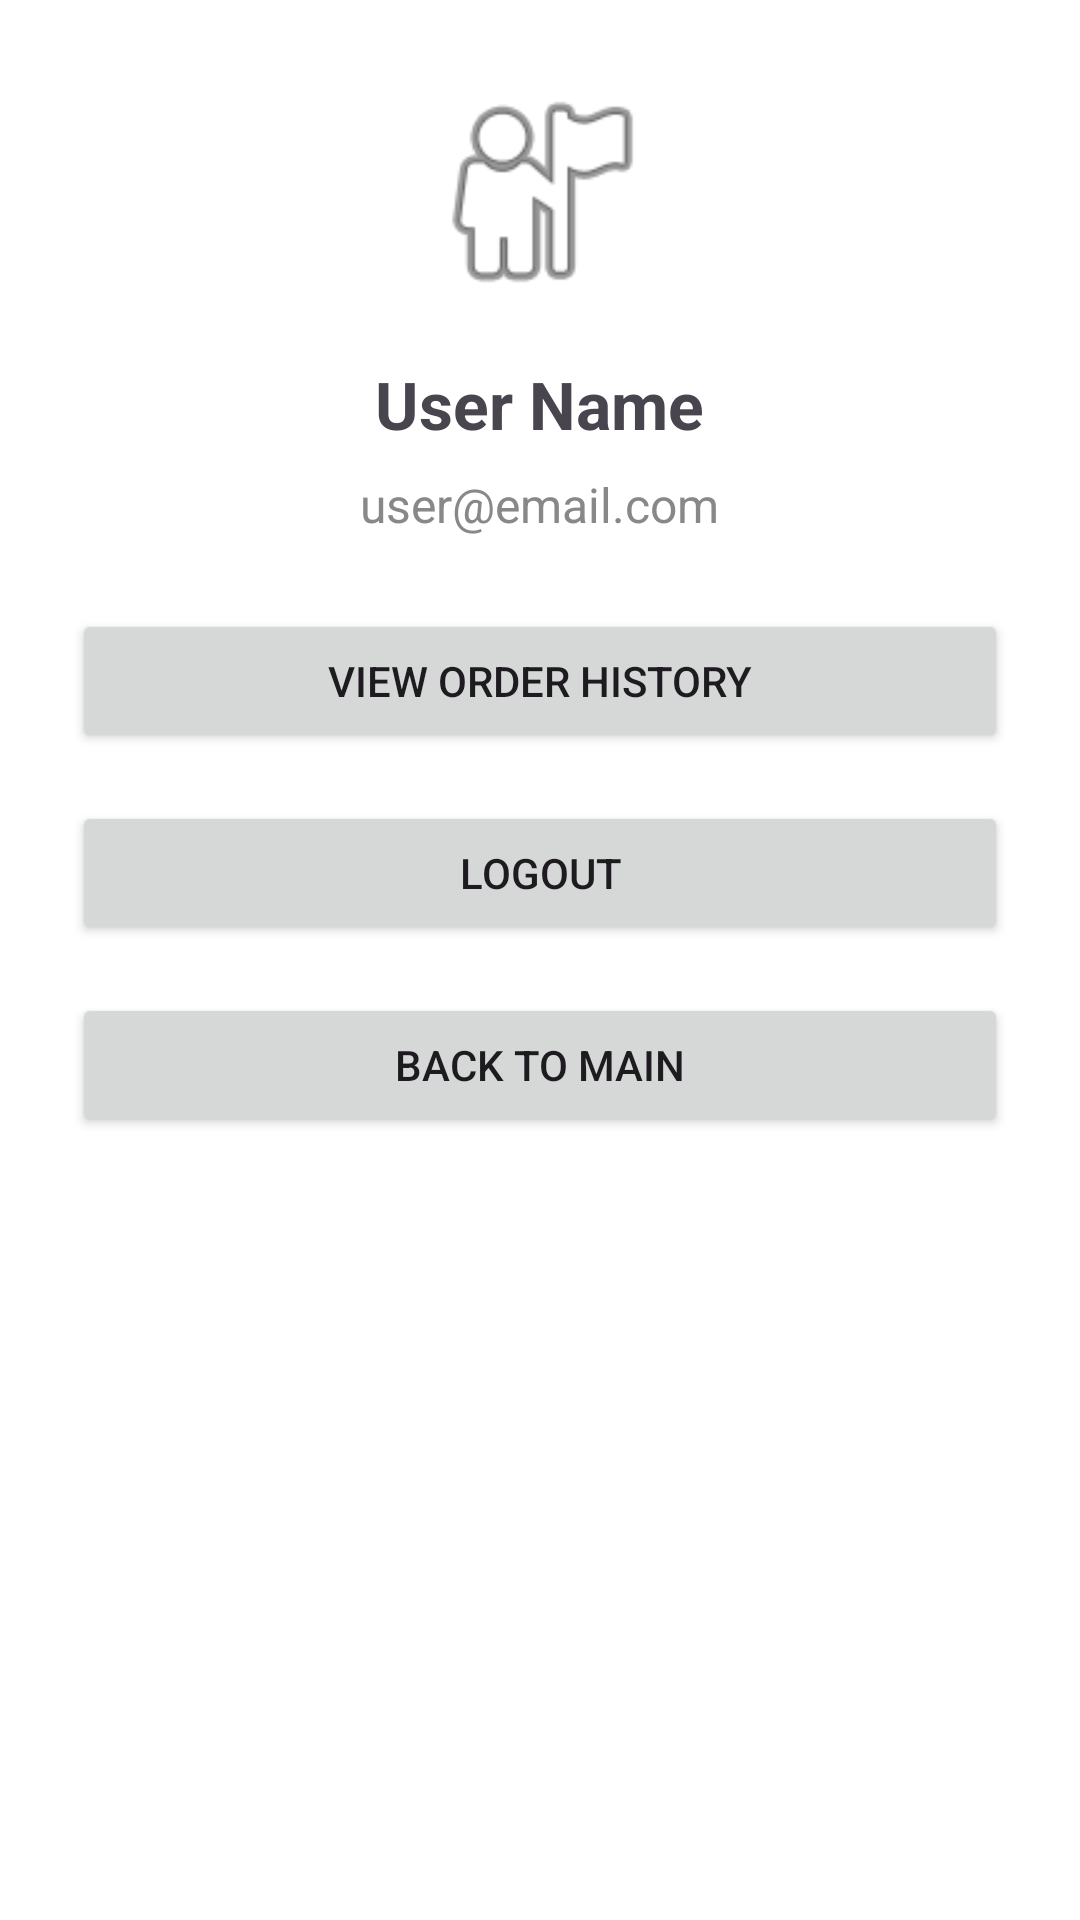

Named icons in this screenshot (1080w x 1920h) and their centers, [x,y]:
myplaces: [542,192]
